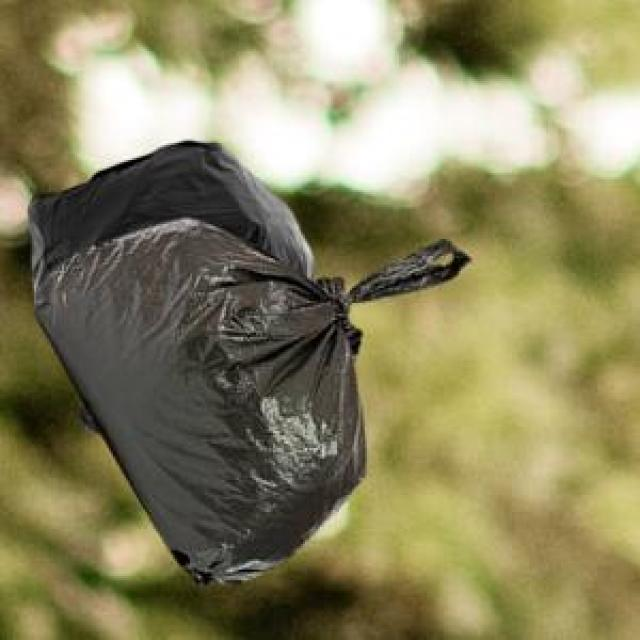waste: (32, 141, 469, 581)
